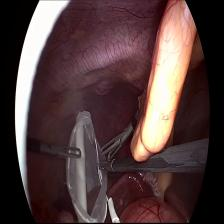Grasper: (99, 125, 133, 164), (39, 144, 82, 162), (96, 160, 113, 174)
Specimen Bag: (67, 110, 106, 224)
